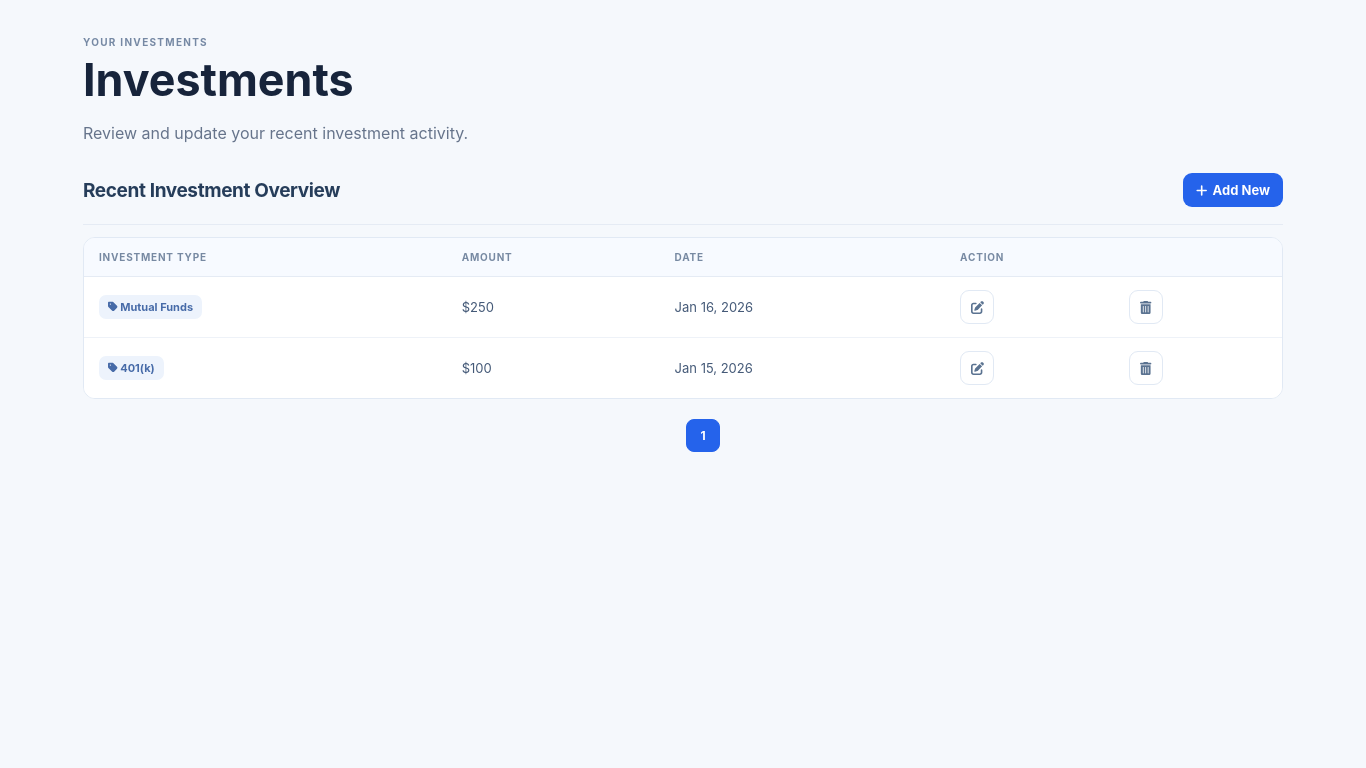
InvestmentList › edits an investment through the modal
Expected: the text "401(k)" is shown, [99,356,164,380]
Click the button named "Edit investment 1".
click(977, 368)  # box [960,351,994,385]
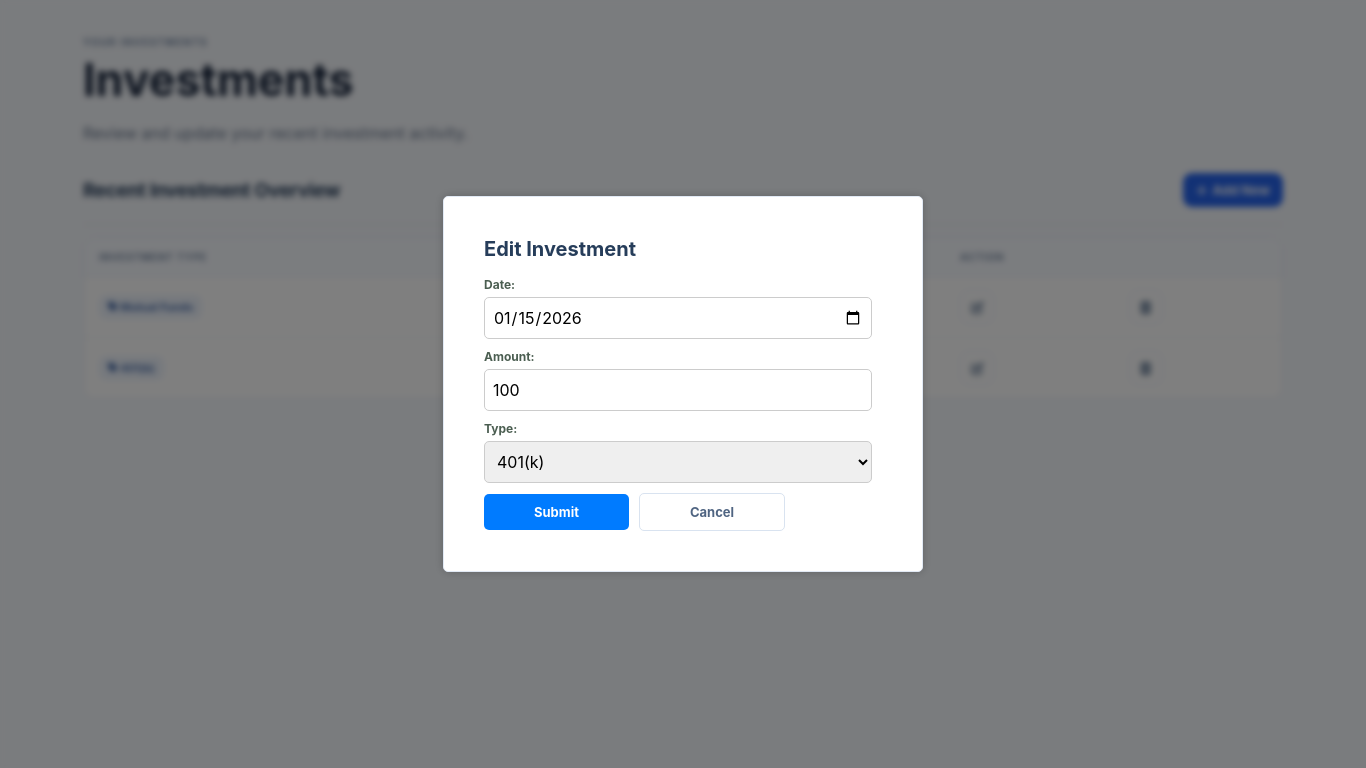
Expected: the heading "Edit Investment" is shown, [484,237,636,261]
Replace the text in the number field labelled "Amount:" with "175" at (678, 390), box [484,369,872,411]
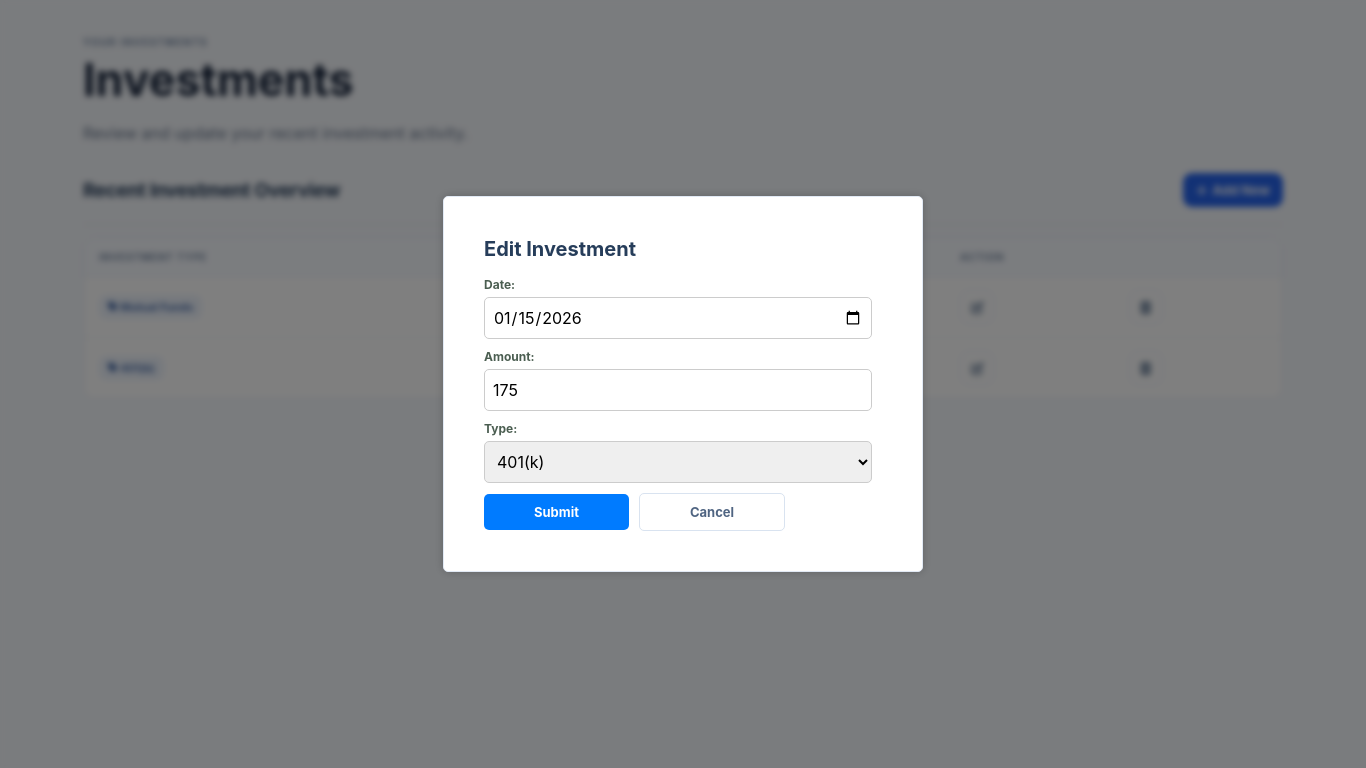
Select "Savings" in the dropdown labelled "Type:" at (678, 462), box [484,441,872,483]
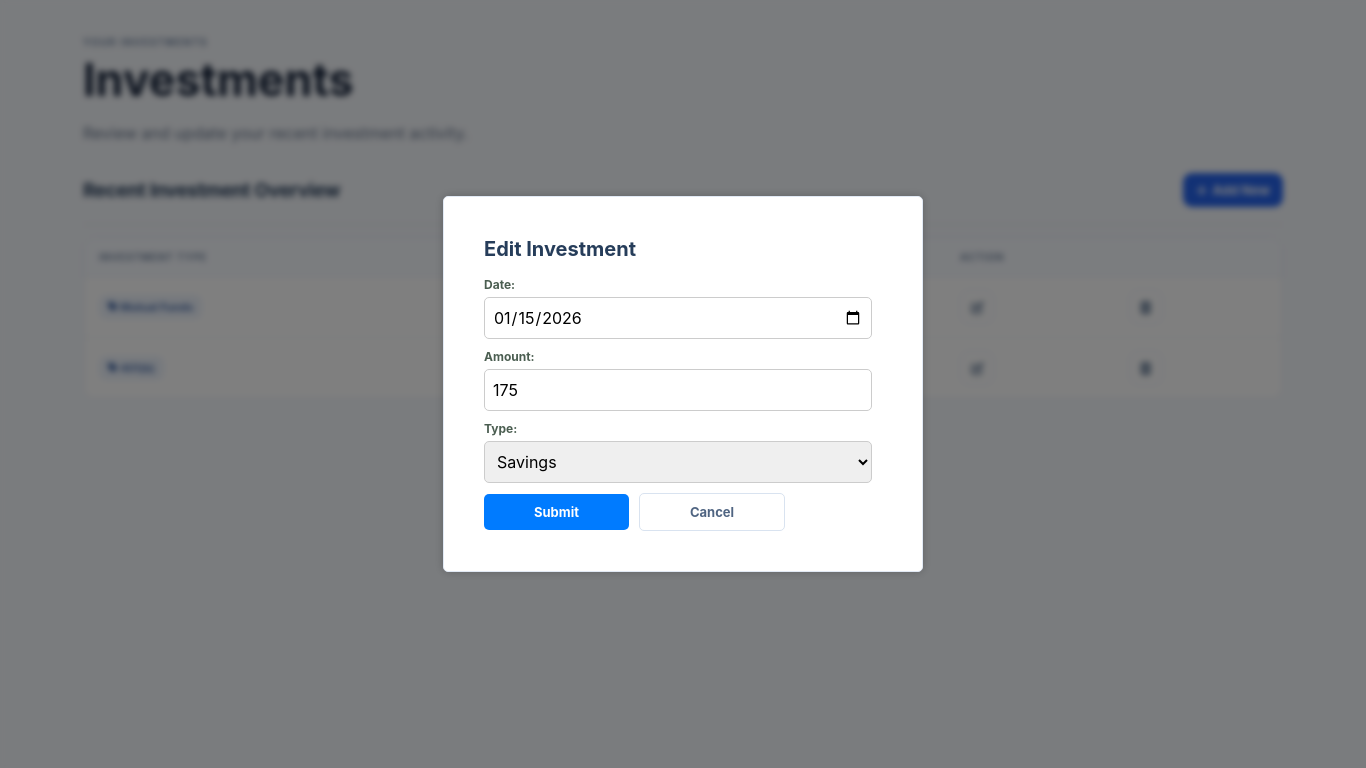
Click the button "Submit".
click(556, 512)  # box [484,494,629,530]
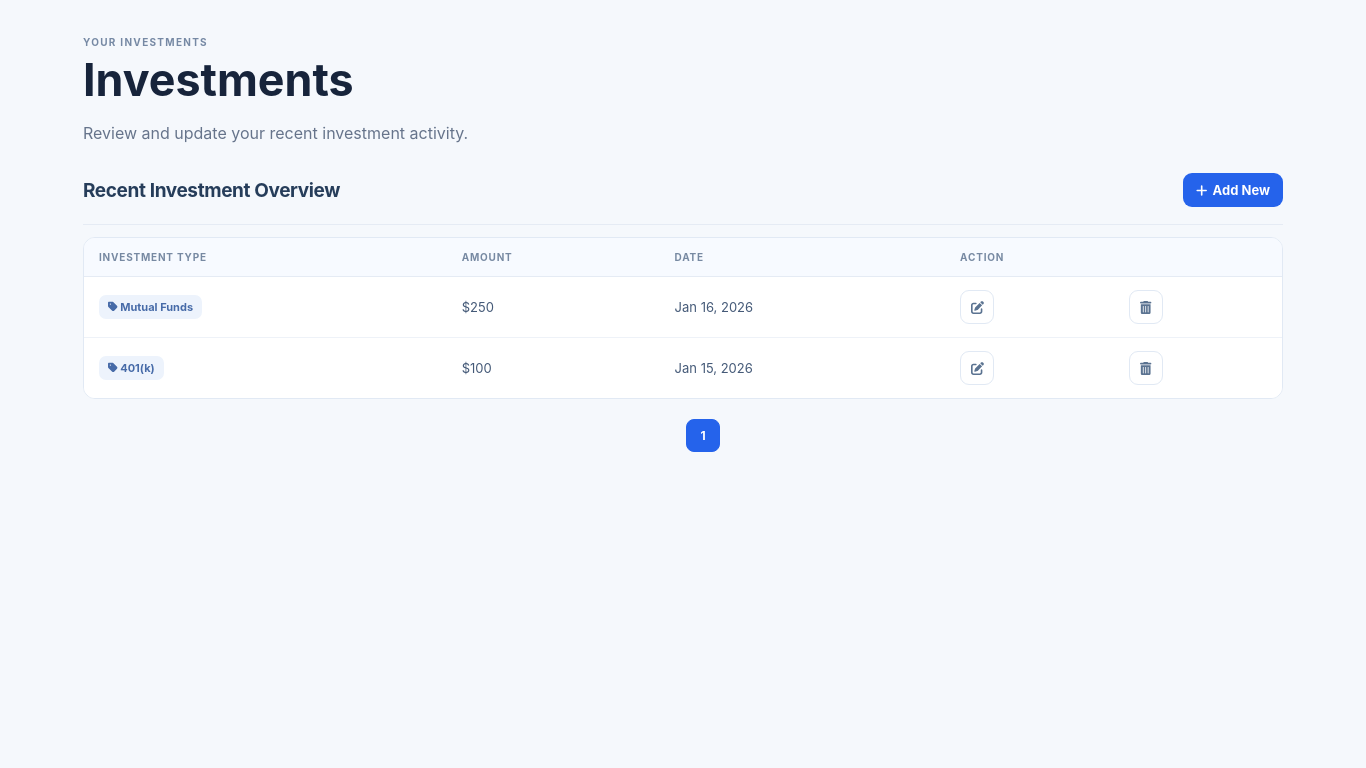
Expected: the heading "Edit Investment" is gone
